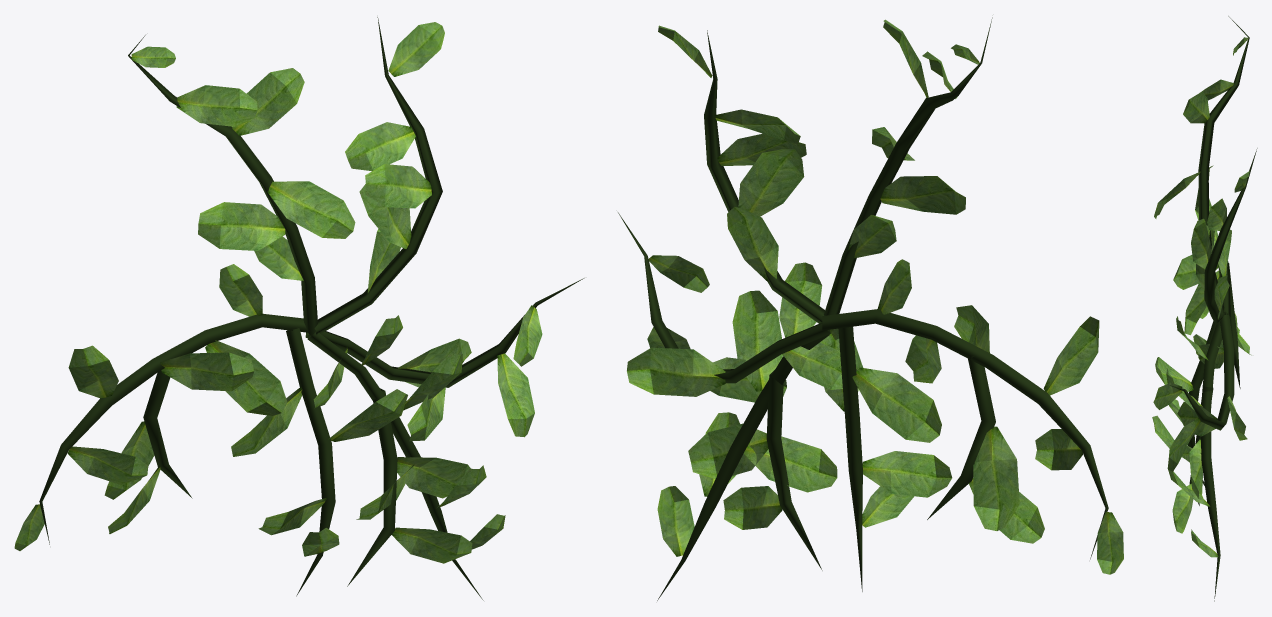
Rendered from polygonum_04.obj.
The picture shows the model from 3 angles, left to right: view 1: azimuth 30°, elevation 25°; view 2: azimuth 150°, elevation 25°; view 3: azimuth 270°, elevation 25°; orthographic projection. The views are drawn at different scales.
Parts seen in each view (by area): view 1: polygonum.002; view 2: polygonum.002; view 3: polygonum.002.
Part boxes in pixels (bbox=[...]): polygonum.002: bbox=[14, 17, 584, 600]; polygonum.002: bbox=[618, 17, 1123, 600]; polygonum.002: bbox=[1152, 16, 1257, 601].
Bounding box in the file's own units: 0.3007 × 0.3518 × 0.0714.
